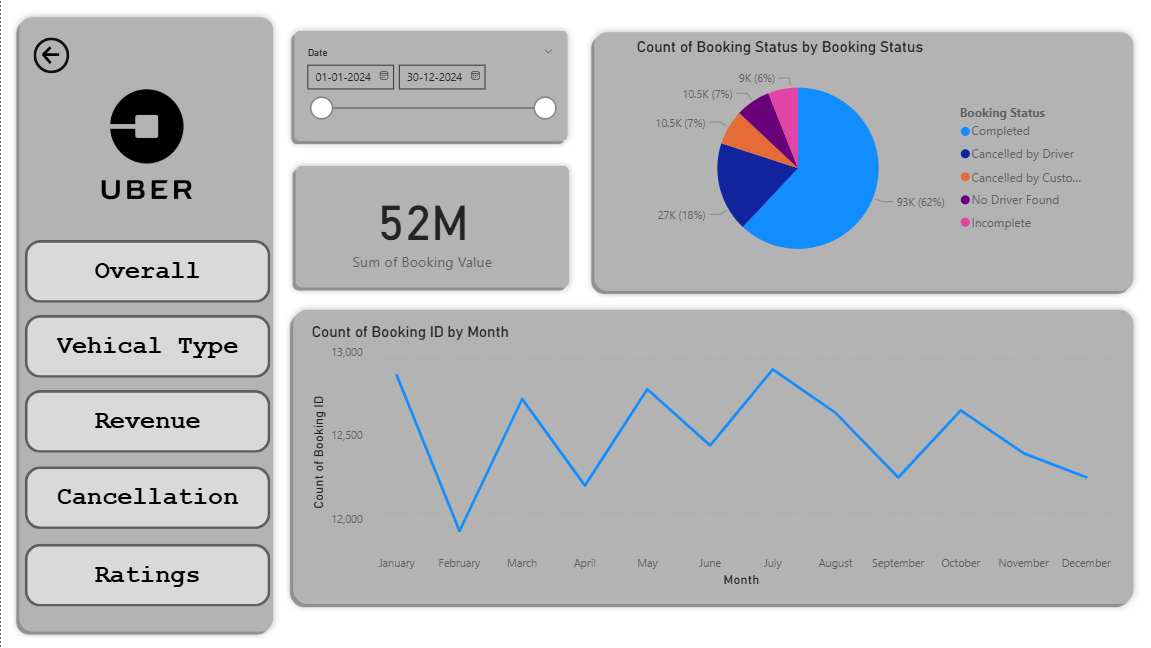

This screenshot's page, from the dashboard's own definition file:
{"tool":"powerbi","page":{"name":"Overall","canvas":[1280,720],"ordinal":1},"visuals":[{"type":"shape","box":[12.3,11,297.8,698.5],"z":0},{"type":"actionButton","box":[35.7,41.2,39.8,39.8],"z":1000},{"type":"actionButton","box":[26.1,266.2,273.1,70],"z":2000},{"type":"actionButton","box":[26.1,349.9,273.1,70],"z":3000},{"type":"actionButton","box":[26.1,433.6,273.1,70],"z":4000},{"type":"actionButton","box":[26.1,518.7,273.1,70],"z":5000},{"type":"actionButton","box":[26.1,603.8,273.1,70],"z":6000},{"type":"shape","box":[317.5,26,319.3,138.3],"z":7000},{"type":"shape","box":[651.8,27.4,614.8,303.3],"z":8000},{"type":"slicer","fields":{"Values":["Uber.Date"]},"box":[327.5,47.4,297.9,95.5],"z":9000},{"type":"shape","box":[319.7,177,319.7,150.9],"z":10000},{"type":"card","fields":{"Values":["Sum(Uber.Booking Value)"]},"box":[373.5,191.6,189.4,120.8],"z":11000},{"type":"shape","box":[317,336.2,949.6,343.1],"z":12000},{"type":"pieChart","fields":{"Category":["Uber.Booking Status"],"Y":["CountNonNull(Uber.Booking Status)"]},"box":[701.2,41.2,522.8,271.7],"z":13000},{"type":"lineChart","fields":{"Y":["CountNonNull(Uber.Booking ID)"],"Category":["Uber.Date.Variation.Date Hierarchy.Month"]},"box":[340.3,358.1,901.5,299.1],"z":14000},{"type":"image","box":[84.1,155.7,154.4,110.3],"z":15000},{"type":"image","box":[97.8,95.1,129.5,92.3],"z":16000}]}

Visuals, with their boxes in screenshot pixels (x1, y1, x2, y2), scaled from the page's 1280x720 canvas onto the 1151x648 screenshot:
shape: pyautogui.locateOnScreen(11, 10, 279, 639)
actionButton: pyautogui.locateOnScreen(32, 37, 68, 73)
actionButton: pyautogui.locateOnScreen(23, 240, 269, 303)
actionButton: pyautogui.locateOnScreen(23, 315, 269, 378)
actionButton: pyautogui.locateOnScreen(23, 390, 269, 453)
actionButton: pyautogui.locateOnScreen(23, 467, 269, 530)
actionButton: pyautogui.locateOnScreen(23, 543, 269, 606)
shape: pyautogui.locateOnScreen(286, 23, 573, 148)
shape: pyautogui.locateOnScreen(586, 25, 1139, 298)
slicer - Uber.Date: pyautogui.locateOnScreen(294, 43, 562, 129)
shape: pyautogui.locateOnScreen(287, 159, 575, 295)
card - Sum(Uber.Booking Value): pyautogui.locateOnScreen(336, 172, 506, 281)
shape: pyautogui.locateOnScreen(285, 303, 1139, 611)
pieChart - Uber.Booking Status x CountNonNull(Uber.Booking Status): pyautogui.locateOnScreen(631, 37, 1101, 282)
lineChart - CountNonNull(Uber.Booking ID) x Uber.Date.Variation.Date Hierarchy.Month: pyautogui.locateOnScreen(306, 322, 1117, 591)
image: pyautogui.locateOnScreen(76, 140, 214, 239)
image: pyautogui.locateOnScreen(88, 86, 204, 169)
